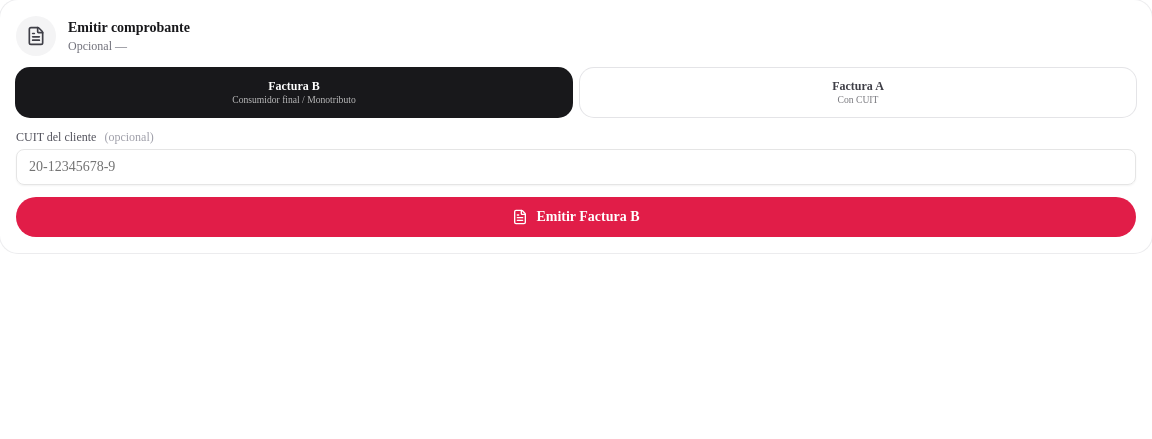
Test: FacturacionSection › el buscador de receptores aparece sólo con Factura A (D2)
Expected: the field labelled "Buscar receptor guardado" is not shown
Step 1. Click the button "Factura A Con CUIT" → (858, 92), box [580,68,1136,117]
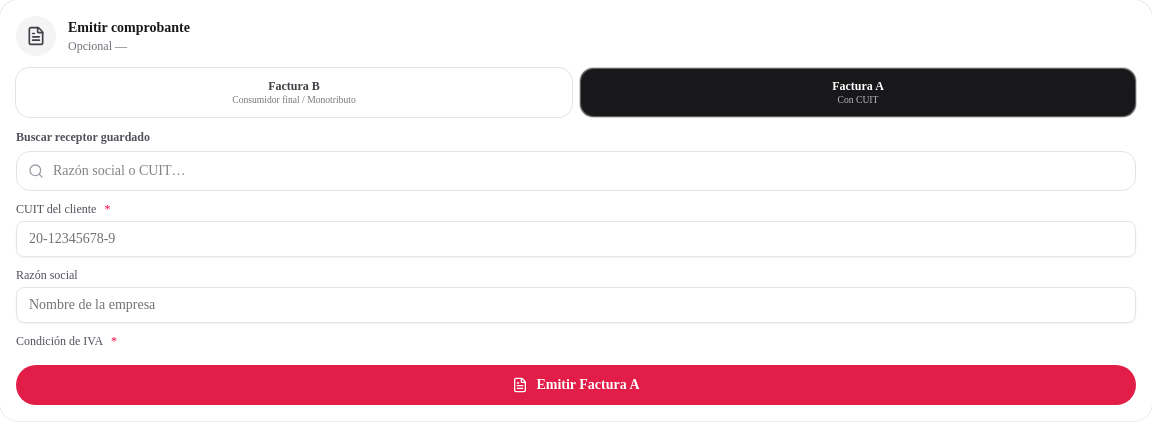
Now the field labelled "Buscar receptor guardado" is shown, box [16,151,1136,191]
